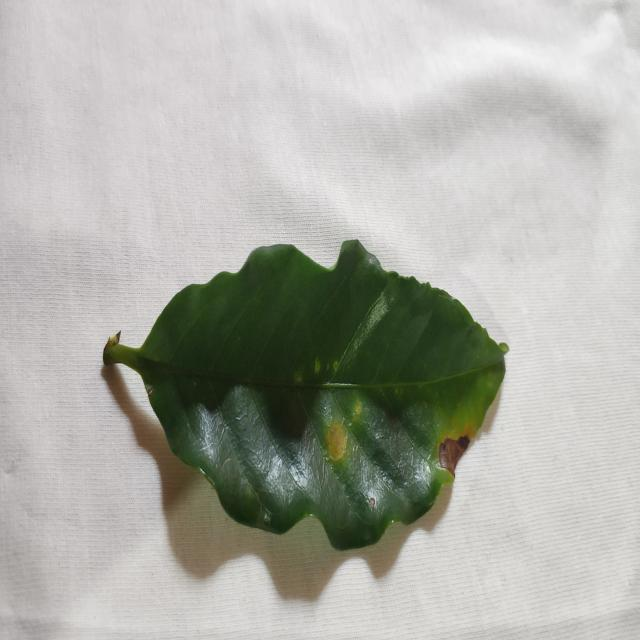Enfermedad-Roya: (101, 240, 509, 554)
